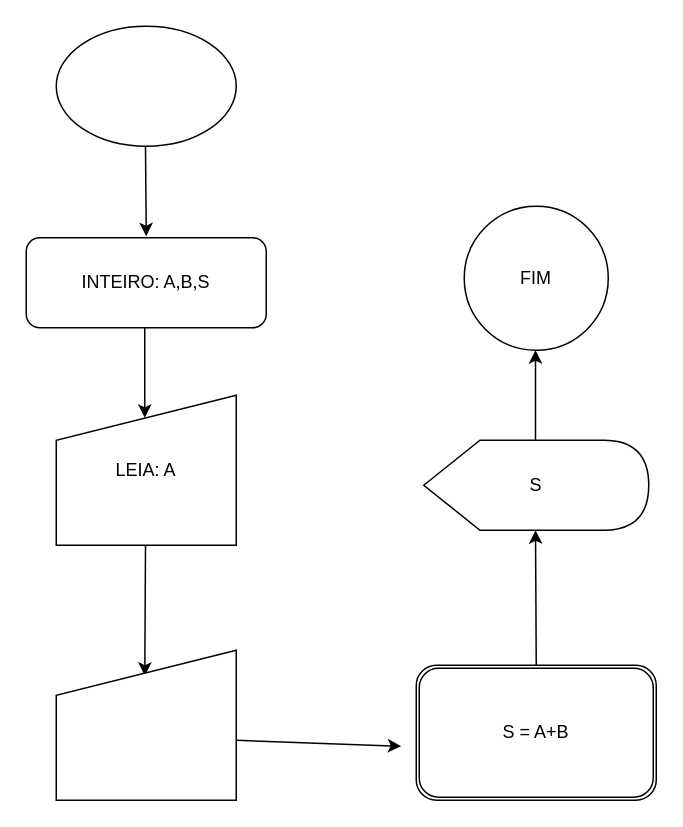
Some shapes in this 683 by 827 pixel diagram are drawn without their labels. The centre of each missing label's shape, as x and y in pixels:
"INICIO" belongs at (145,85).
"LEIA: B" belongs at (145,724).
